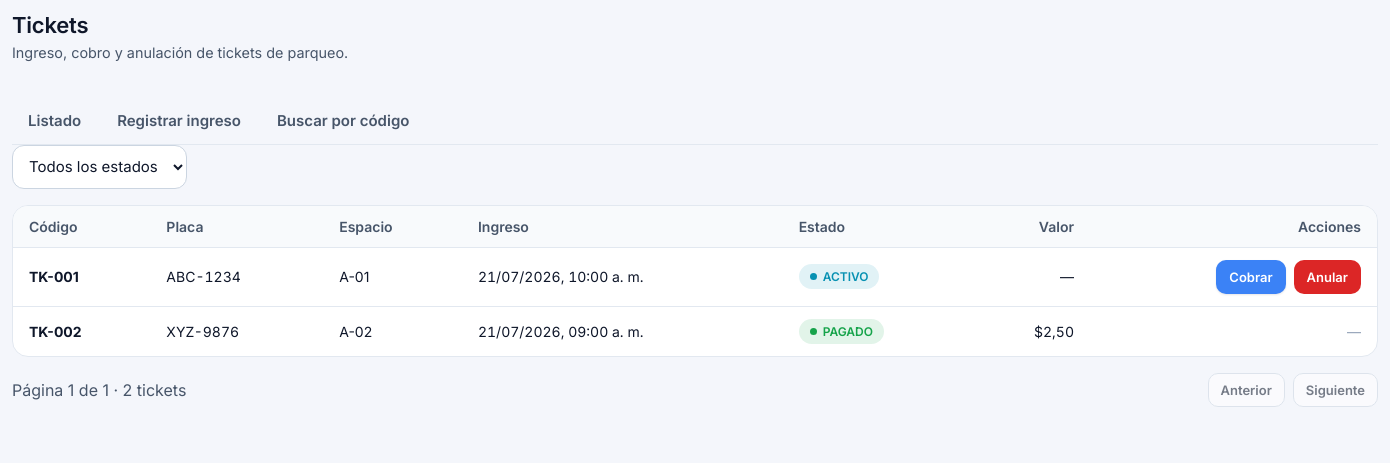
TicketsPage › buscar por código con Enter
The width and height of the screenshot is (1390, 463).
Expected: the text "TK-001" is shown, [29,268,79,285]
Click the tab "Buscar por código". click: x=343, y=121
box: [261,99,426,144]
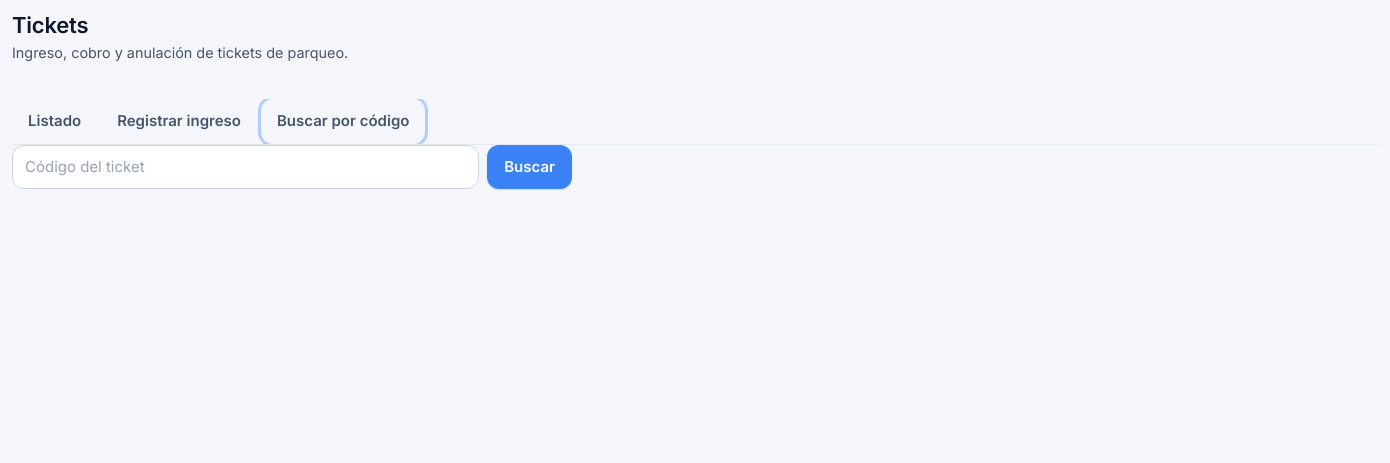
Type "TK-002" into the field labelled "Código del ticket". click: x=246, y=167
box: [12,145,479,189]
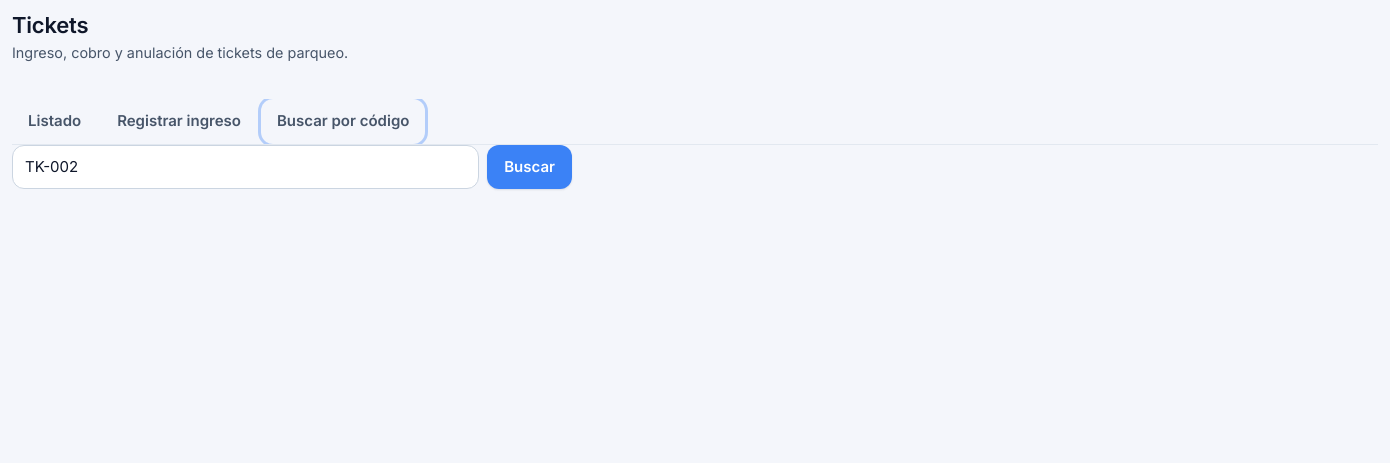
Press Enter in the field named "Código del ticket", box [12,145,479,189]
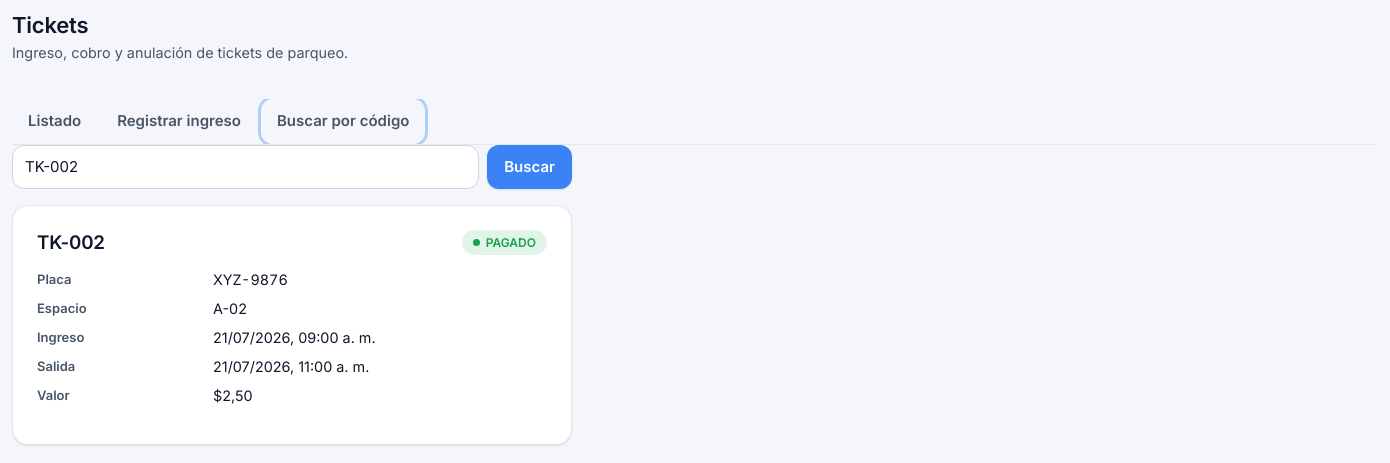
Expected: the heading "TK-002" is shown, [37,231,105,254]
